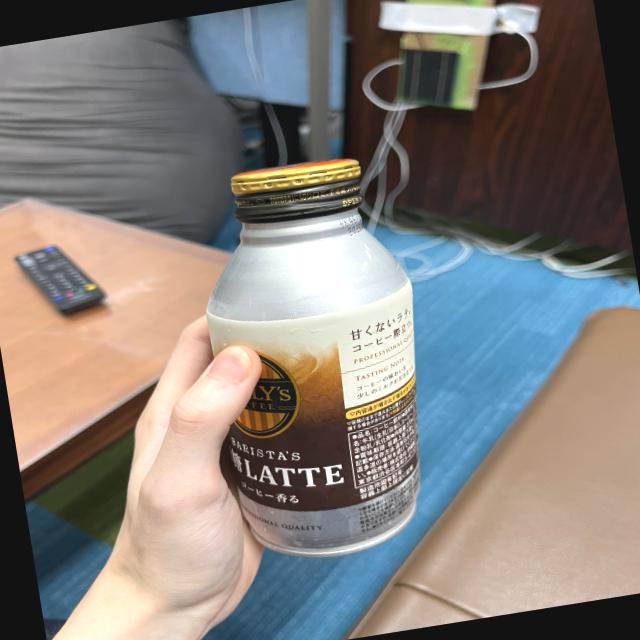coffee-latte: (184, 146, 454, 571)
